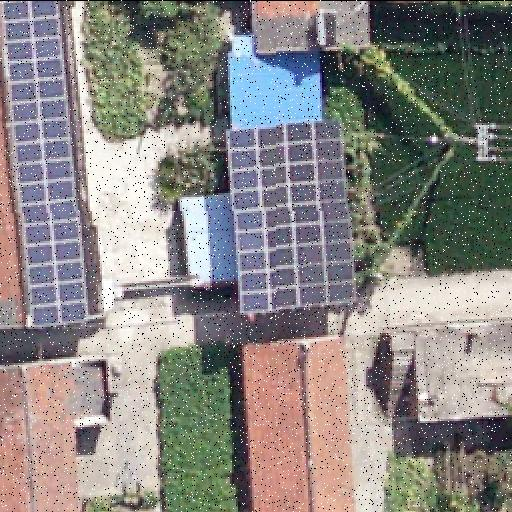solar-panel: (8, 0, 100, 332), (222, 114, 358, 326)
